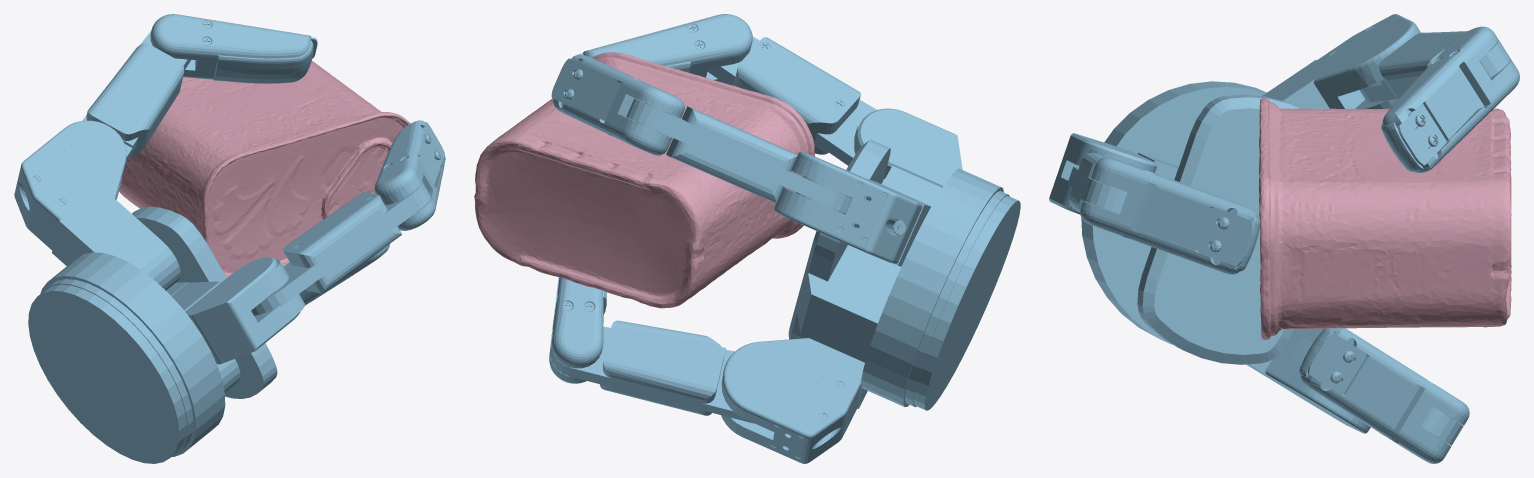
3 views of the same model, side by side, from view 1: azimuth 30°, elevation 25°; view 2: azimuth 150°, elevation 25°; view 3: azimuth 270°, elevation 25° (orthographic). The views are drawn at different scales.
Visible parts, largest first — view 1: world; view 2: world; view 3: world.
Part boxes in pixels (bbox=[...]): world: bbox=[14, 14, 445, 463]; world: bbox=[474, 14, 1020, 463]; world: bbox=[1049, 14, 1519, 463].
Size of the model in its own units: 0.1819 by 0.1622 by 0.1557.
